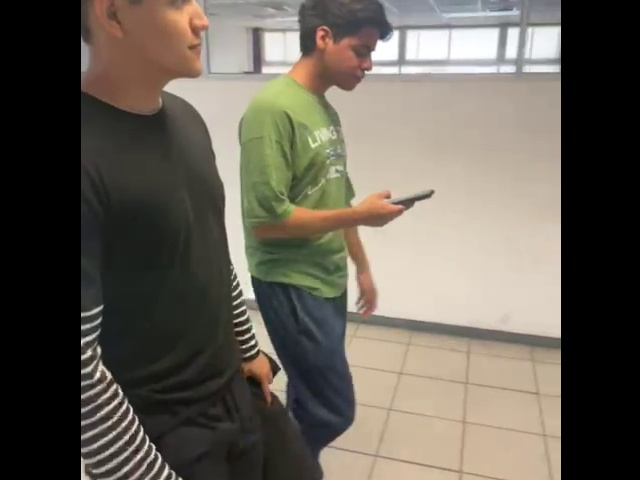mixto2: (385, 181, 443, 209)
